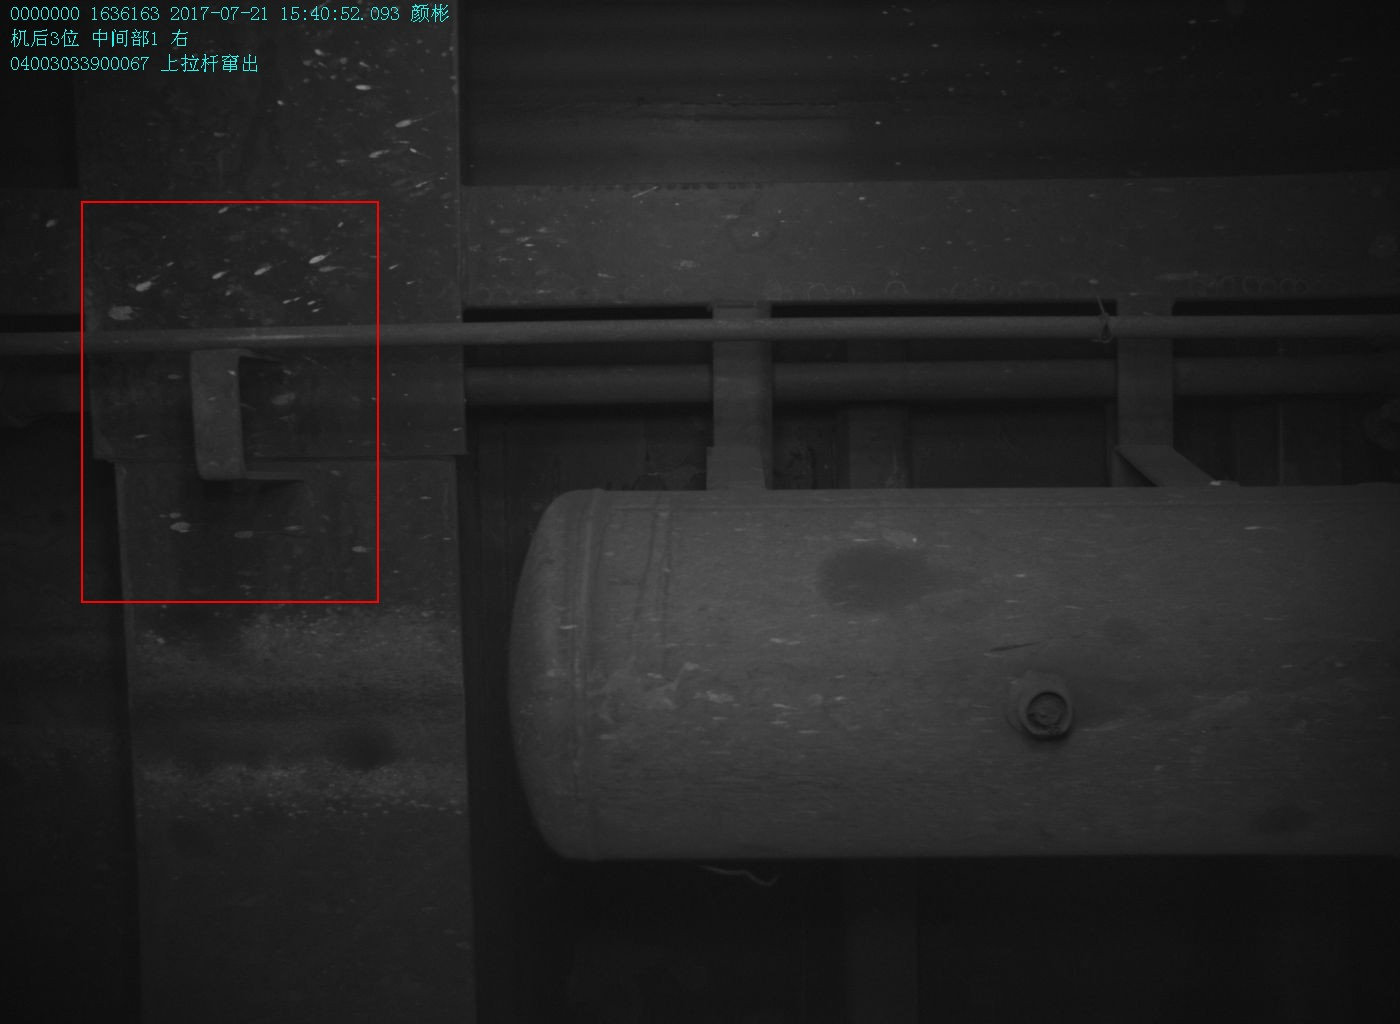upper lever: (192, 324, 307, 483)
